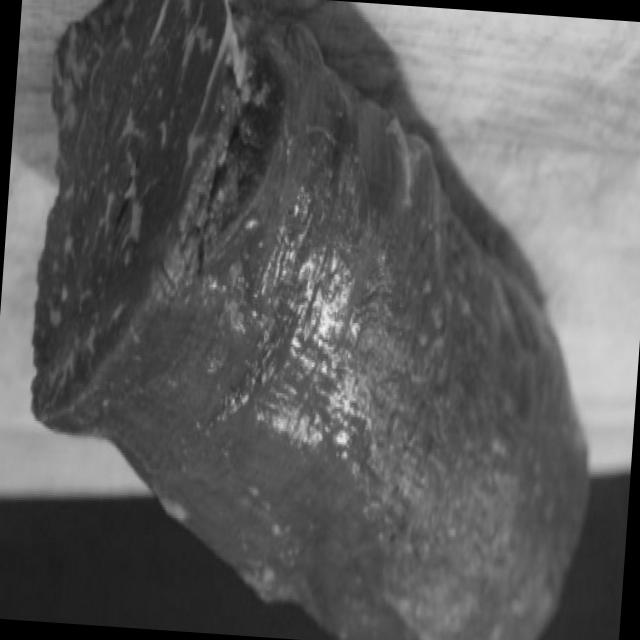thit than: (15, 32, 619, 640)
